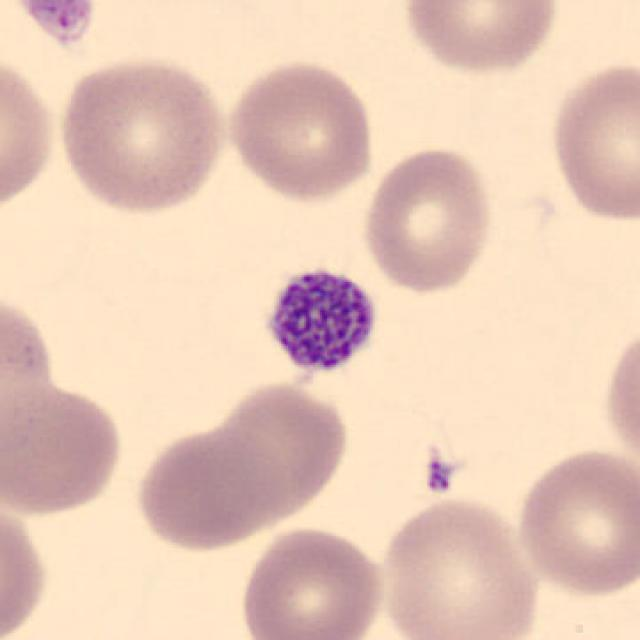Platelets: (258, 259, 384, 390), (7, 0, 101, 46), (420, 452, 462, 498)
RBC: (52, 51, 231, 217), (373, 492, 542, 640), (222, 54, 379, 204), (204, 375, 356, 529), (359, 141, 498, 296), (130, 422, 290, 554), (510, 442, 638, 600), (236, 522, 388, 640), (2, 379, 128, 520), (546, 54, 638, 228), (398, 0, 564, 78), (0, 302, 67, 486), (0, 49, 60, 220), (0, 492, 52, 640), (599, 317, 640, 483)
